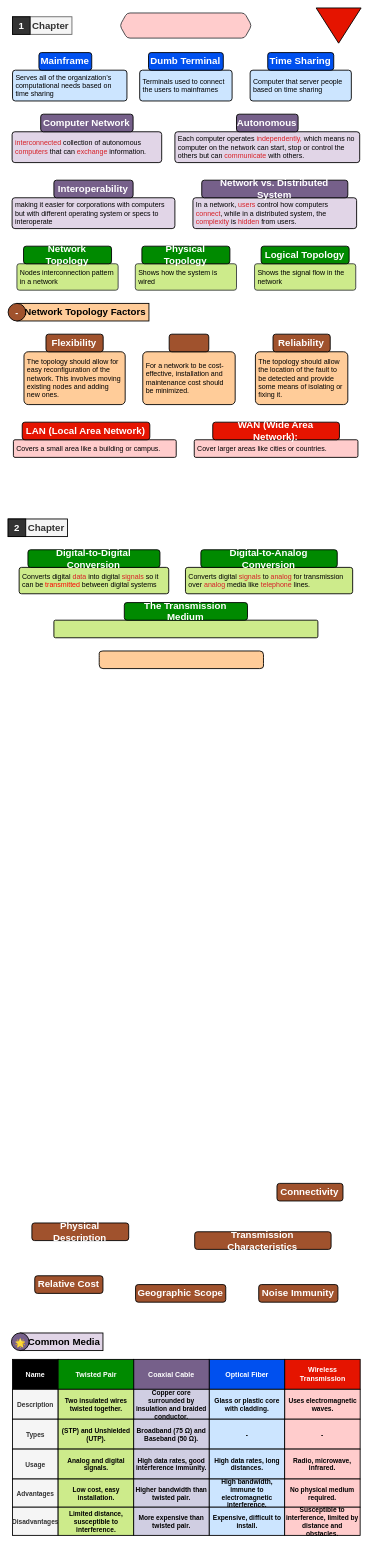
Image size: 369x1544. Some labels were removed from this diagram. Here are the shapes that lost their labels. From the top down, the centre of each, then its label:
[185,25]: Comupter Network Midterm
[338,25]: ماننساش غزة
[189,343]: Cost
[185,629]: The physical path between transmitter and receiver in a communication network.
[181,659]: Characteristics of Transmission Media
